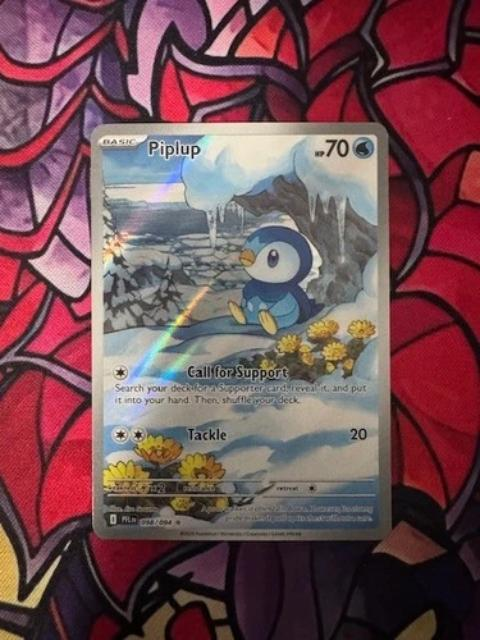Card: (83, 119, 397, 545)
Name: (140, 134, 202, 163)
